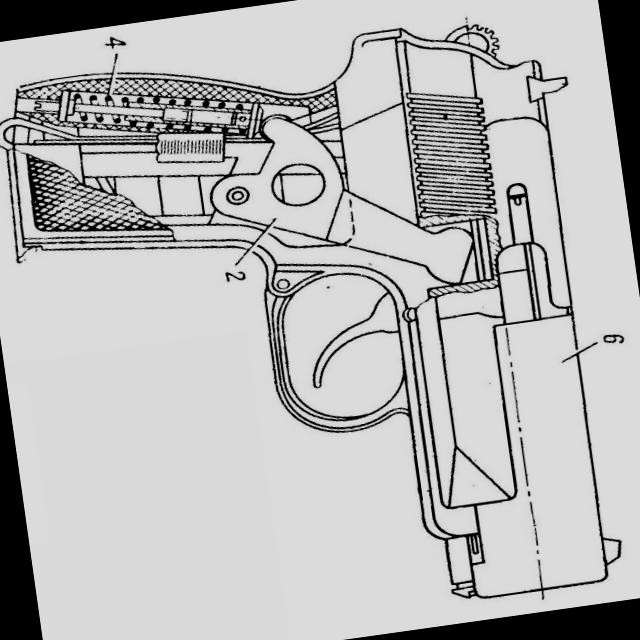handgun: (4, 6, 632, 639)
